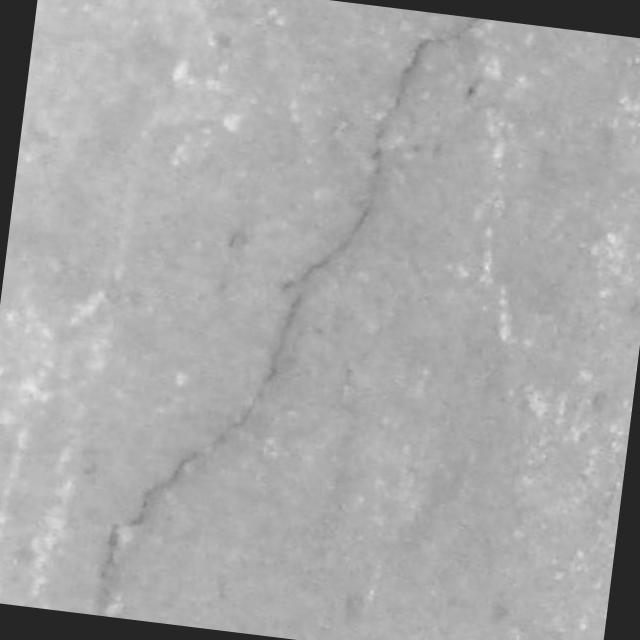crack: (85, 0, 492, 640)
